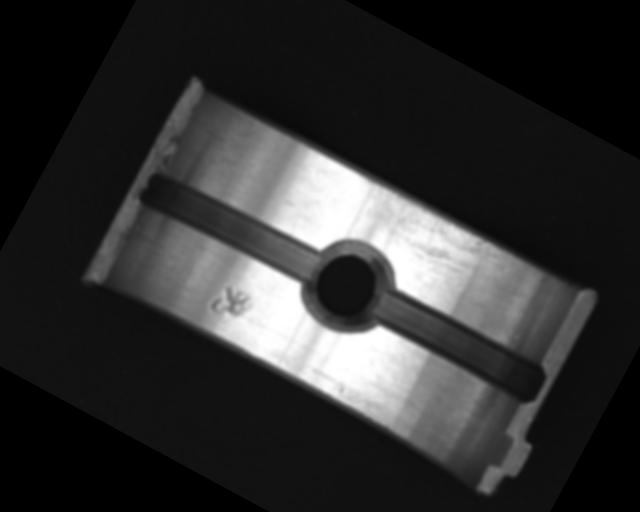bruise: (207, 279, 258, 327)
gap: (131, 160, 329, 298), (365, 281, 550, 408)
hole: (288, 225, 406, 347)
scratch: (334, 170, 518, 303)
